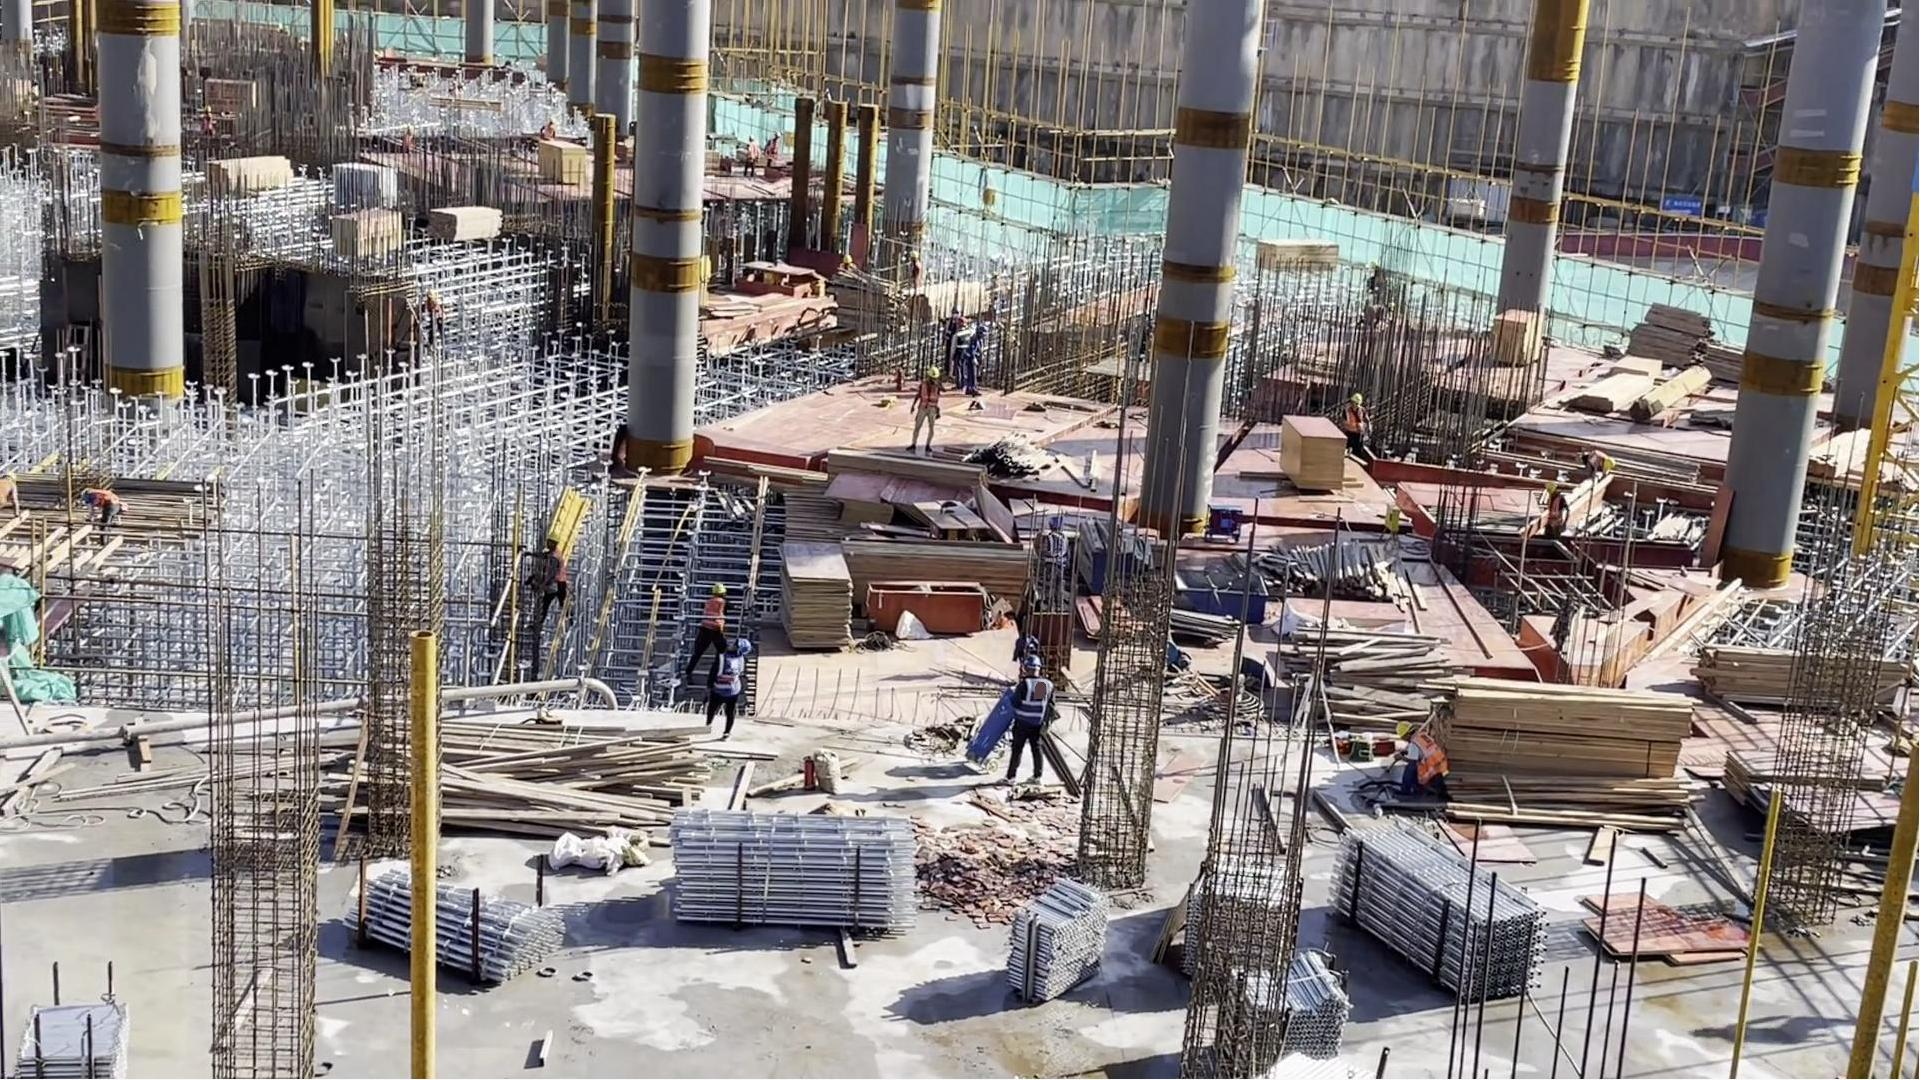board: (1714, 741, 1894, 851), (1574, 885, 1755, 971), (779, 539, 856, 652), (1277, 412, 1346, 495), (825, 474, 894, 531), (330, 206, 402, 258), (1490, 307, 1543, 368), (537, 141, 587, 186)
cutter: (907, 495, 990, 545), (740, 258, 832, 299)
ebox: (1379, 500, 1400, 541), (982, 186, 994, 209), (782, 131, 793, 151)
helmet: (1020, 652, 1042, 668), (1393, 721, 1413, 737), (708, 584, 727, 596), (1348, 393, 1364, 406), (925, 366, 940, 380), (1545, 482, 1560, 495), (546, 532, 561, 543), (975, 325, 989, 336), (956, 317, 968, 326)
person: (1002, 651, 1051, 777), (1385, 719, 1452, 807), (519, 531, 570, 619), (708, 639, 747, 743), (908, 362, 943, 456), (694, 584, 731, 665), (79, 485, 126, 535), (1342, 390, 1375, 460), (1542, 480, 1571, 539), (423, 288, 446, 352), (952, 316, 971, 392), (973, 325, 992, 396), (935, 304, 959, 338), (744, 132, 758, 179), (766, 131, 781, 170), (199, 105, 216, 137), (910, 250, 923, 289), (538, 118, 558, 142), (402, 123, 415, 158)
scaffold: (1338, 811, 1549, 1016), (671, 808, 917, 943), (344, 866, 575, 993), (998, 877, 1111, 1010), (1229, 952, 1352, 1075), (1176, 856, 1296, 976)
vest: (1407, 733, 1448, 791), (1017, 674, 1052, 732), (710, 656, 744, 705), (1544, 495, 1565, 538), (701, 601, 727, 634), (917, 381, 940, 414), (1344, 406, 1366, 437), (968, 339, 985, 367), (953, 332, 969, 360), (94, 489, 119, 507)
wood: (1433, 675, 1691, 832), (442, 722, 707, 847), (1283, 623, 1446, 729), (1695, 642, 1912, 717), (1287, 541, 1423, 609), (1567, 363, 1713, 424), (826, 446, 988, 494), (968, 433, 1104, 489), (902, 282, 996, 323), (208, 153, 296, 196), (1256, 237, 1339, 278), (426, 203, 503, 245)
